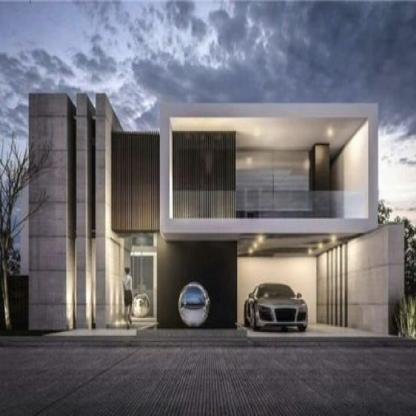Balcony: (236, 191, 367, 217)
Building Outline: (29, 93, 403, 335)
Door: (130, 253, 156, 322)
Facade: (30, 93, 404, 336)
Floor Slab: (161, 219, 376, 231)
Glass Wall: (237, 150, 313, 218)
Window: (170, 117, 369, 218), (131, 236, 156, 246)
